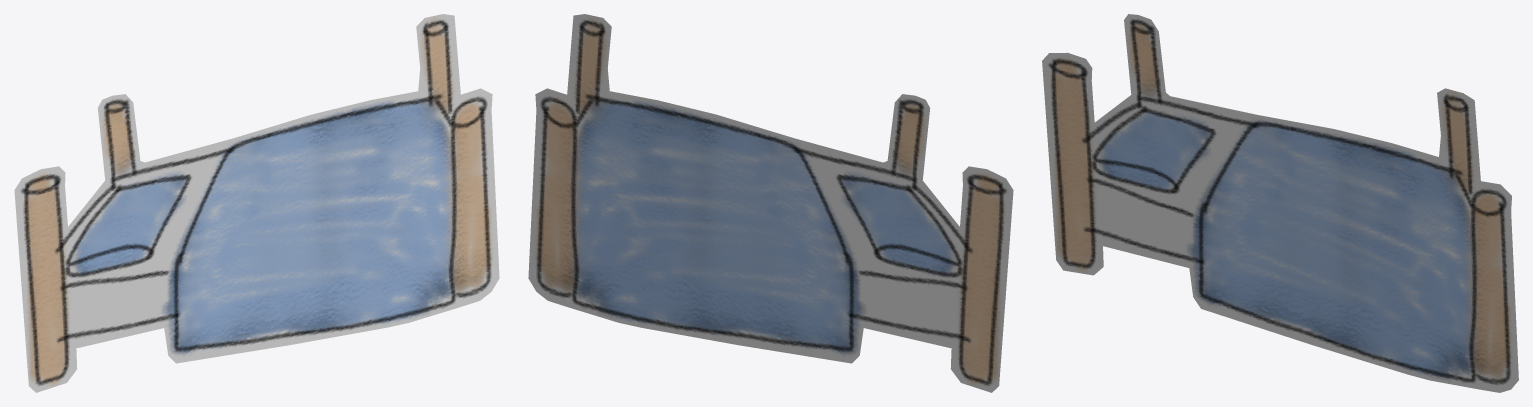
File: Sang.fbx
3 views of the same model, side by side, from view 1: azimuth 30°, elevation 25°; view 2: azimuth 150°, elevation 25°; view 3: azimuth 330°, elevation 25° (orthographic).
Parts seen in each view (by area): view 1: bed; view 2: bed; view 3: bed.
Part boxes in pixels (x1=…): bed: x1=14, y1=14, x2=499, y2=392; bed: x1=528, y1=14, x2=1013, y2=392; bed: x1=1042, y1=14, x2=1518, y2=392.
Size of the model in its own units: 158 by 93.56 by 1.52e-05.
Materials: 1 (1 with a texture image).
